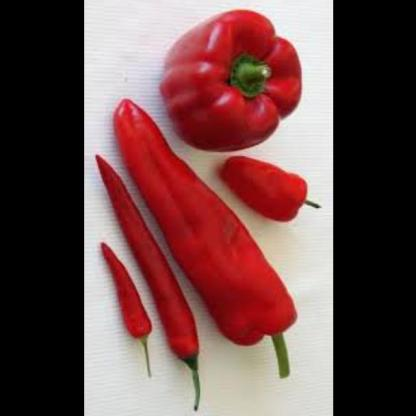bell pepper: (114, 92, 292, 371), (147, 6, 310, 151), (219, 146, 323, 225)
hot pepper: (84, 135, 210, 389), (94, 232, 155, 378)
